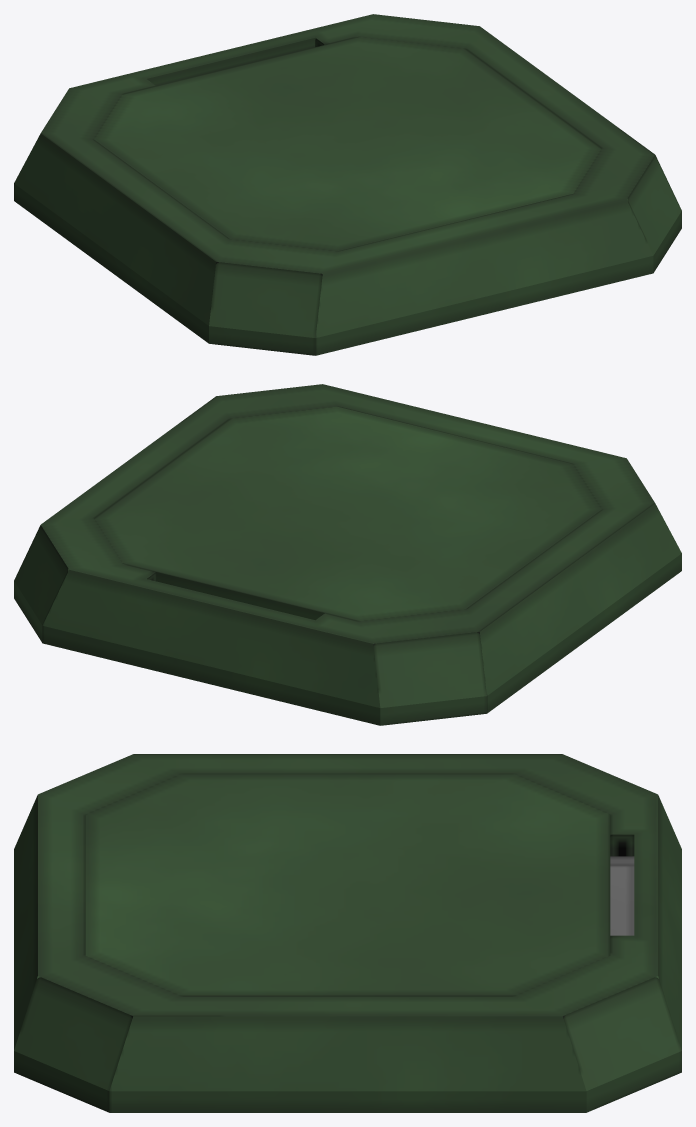
File: silo_hatch_large.obj
3 views of the same model, one above another, from view 1: azimuth 30°, elevation 25°; view 2: azimuth 150°, elevation 25°; view 3: azimuth 270°, elevation 25° (orthographic). The views are drawn at different scales.
Visible parts, largest first — view 1: Frame, Hatch; view 2: Frame, Hatch; view 3: Frame, Hatch.
Boxes of the visible parts, left/top/right/bottom form: Frame: left=14, top=14, right=681, bottom=355; Hatch: left=94, top=36, right=601, bottom=251; Frame: left=14, top=384, right=681, bottom=725; Hatch: left=94, top=406, right=601, bottom=621; Frame: left=14, top=754, right=681, bottom=1112; Hatch: left=85, top=774, right=634, bottom=995.
Bounding box in the file's own units: 7 × 1 × 7.
Materials: 1 (1 with a texture image).
